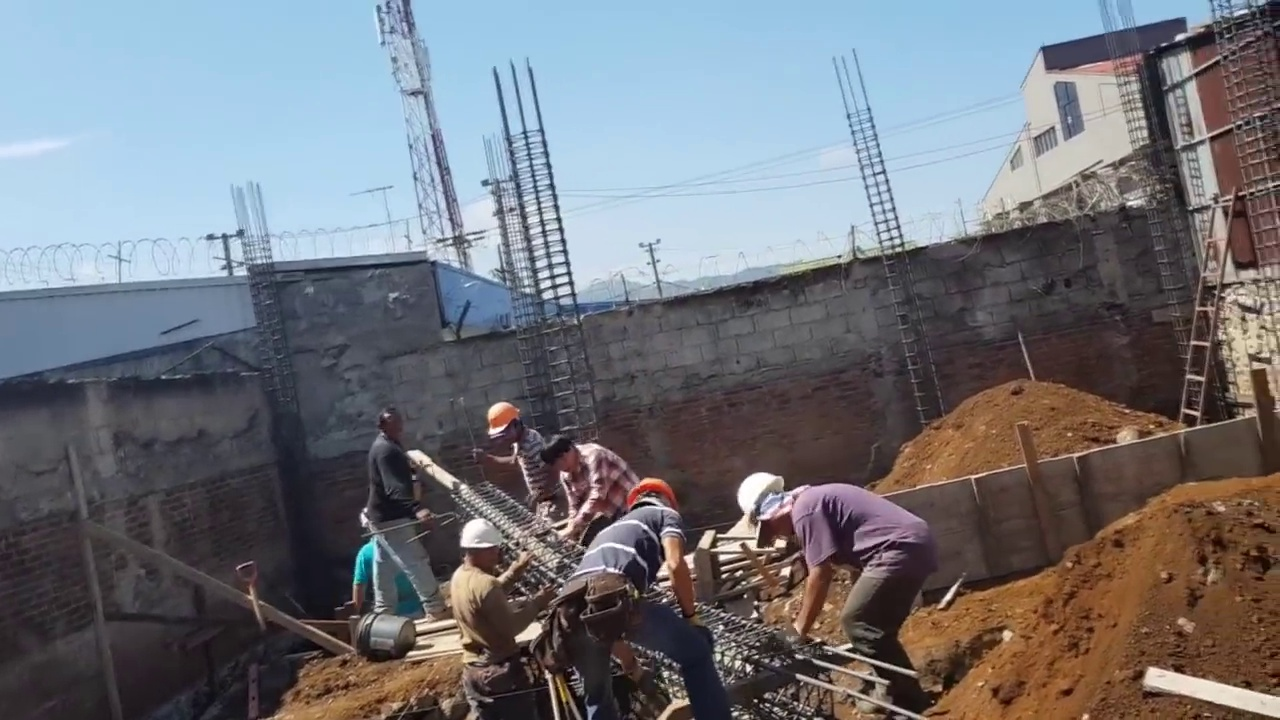helmet: (736, 471, 788, 527), (627, 478, 679, 510), (459, 518, 504, 550), (485, 401, 520, 436)
helmet-off: (541, 438, 581, 475), (377, 414, 405, 444)
helmet-on: (736, 473, 809, 547), (458, 518, 503, 571), (626, 476, 680, 515), (486, 401, 523, 445)
person: (736, 472, 927, 705), (542, 478, 712, 720), (360, 413, 447, 623), (450, 517, 533, 719), (540, 439, 641, 540), (353, 506, 424, 622), (485, 401, 547, 495)
